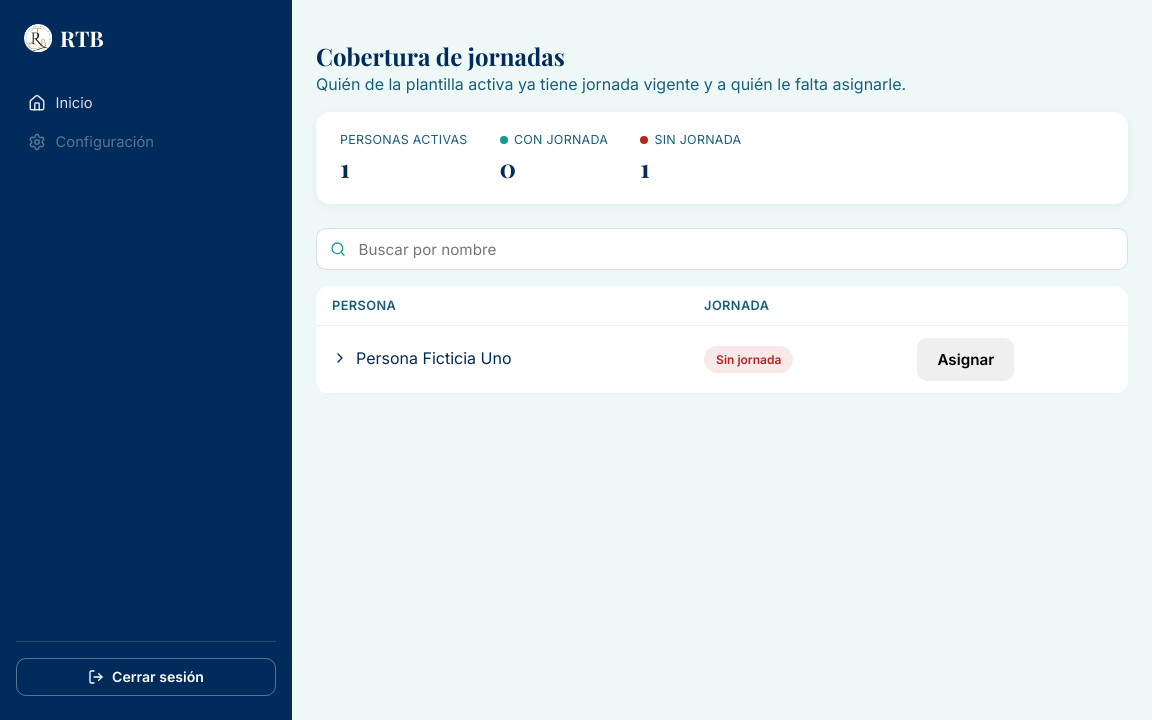
Test case: AsignarJornadaPage › el formulario arranca cerrado y el botón de la fila lo abre
Click the button "Asignar" at (966, 360), box [917, 338, 1014, 381]
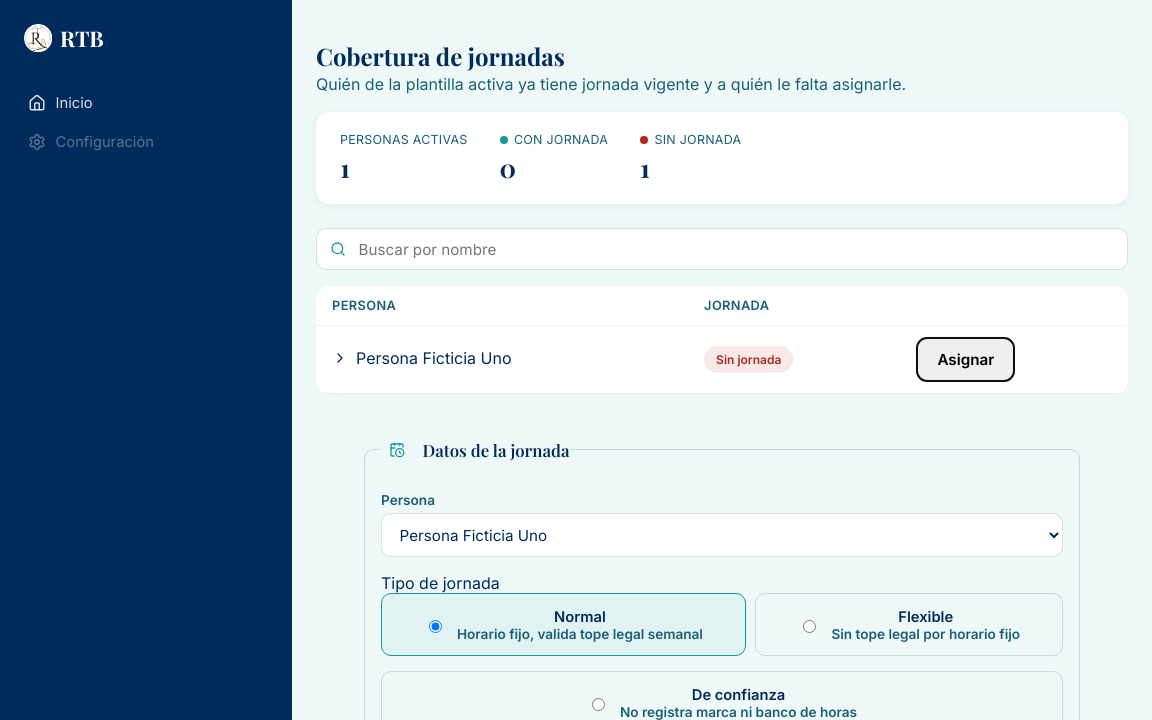
Expected: the dropdown labelled "Persona" is shown, [381, 513, 1063, 557]
